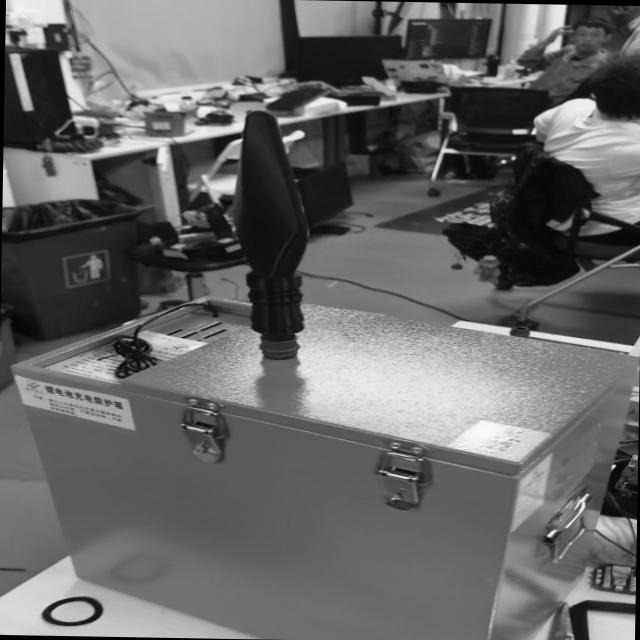base: (258, 336, 298, 358)
